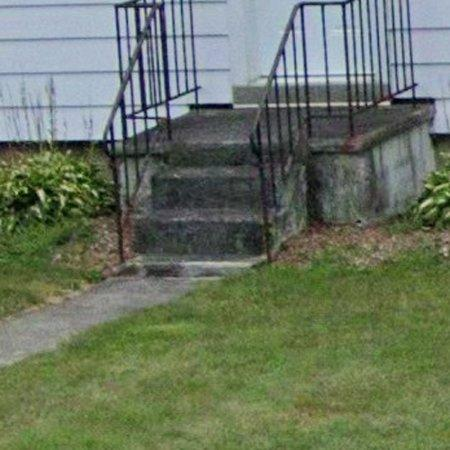stairs: (134, 0, 435, 257)
